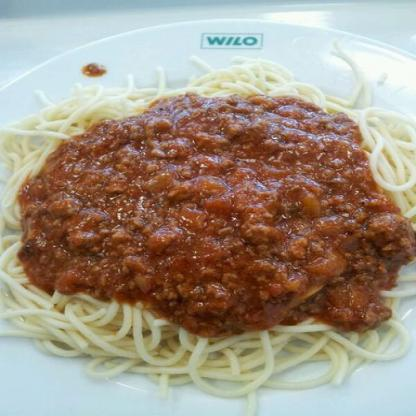pasta: (0, 54, 415, 393)
